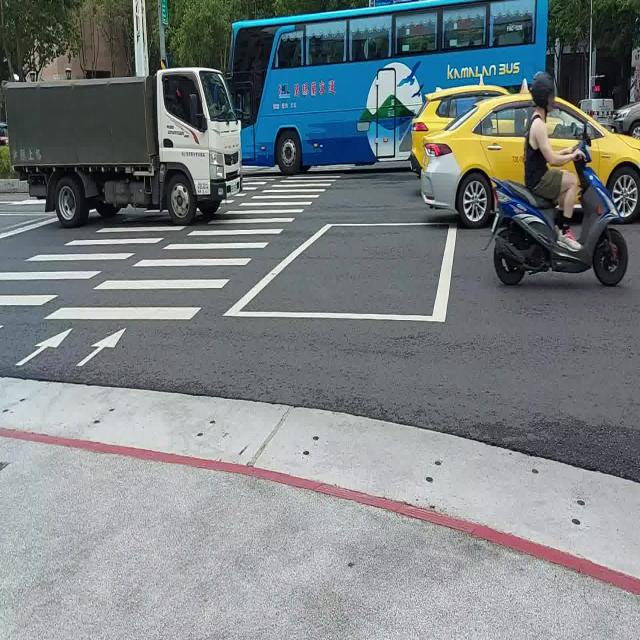bus: (229, 0, 548, 173)
car: (420, 93, 534, 227), (548, 98, 640, 222), (410, 84, 509, 176), (611, 100, 640, 139)
crosswalk: (36, 170, 344, 323), (0, 219, 191, 311)
motocycle: (491, 138, 628, 287)
trunk: (5, 69, 241, 227)
